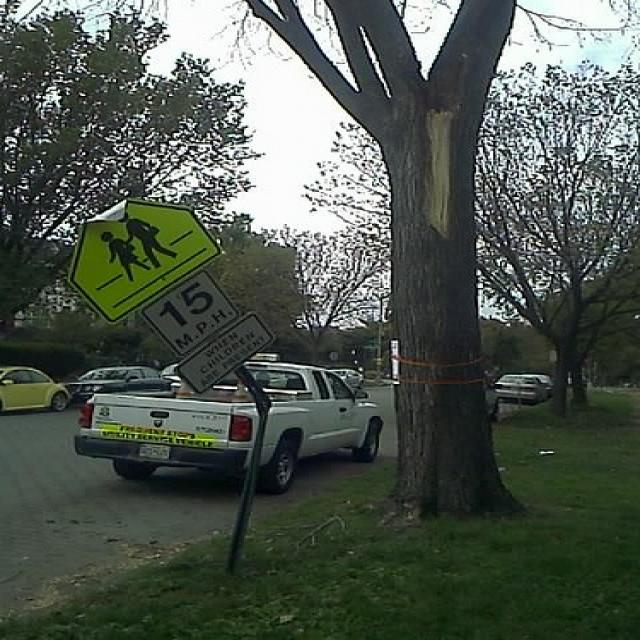car: (60, 365, 158, 406), (0, 365, 72, 411), (492, 370, 550, 403), (331, 368, 364, 386), (159, 361, 174, 374)
truck: (68, 354, 379, 492)
